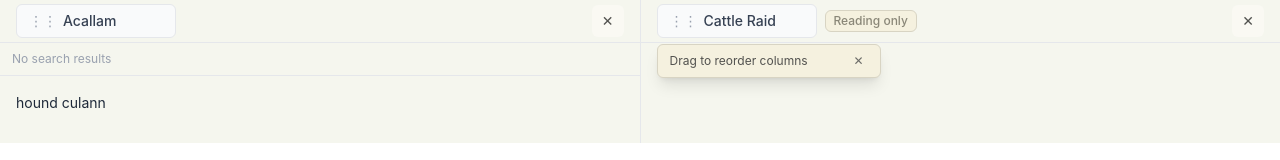
Test: drag-reorder discovery hint › does not reappear on a later 1->2 transition once dismissed via ✕, and records the dismissal
The image size is (1280, 160).
Click the button named "dismiss" at [858, 61], box [849, 53, 868, 69]
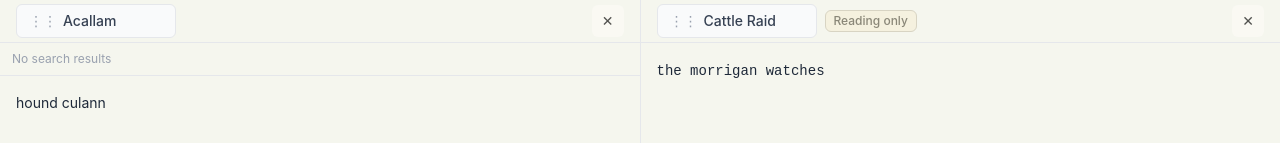
Expected: the text "Drag to reorder columns" is gone
